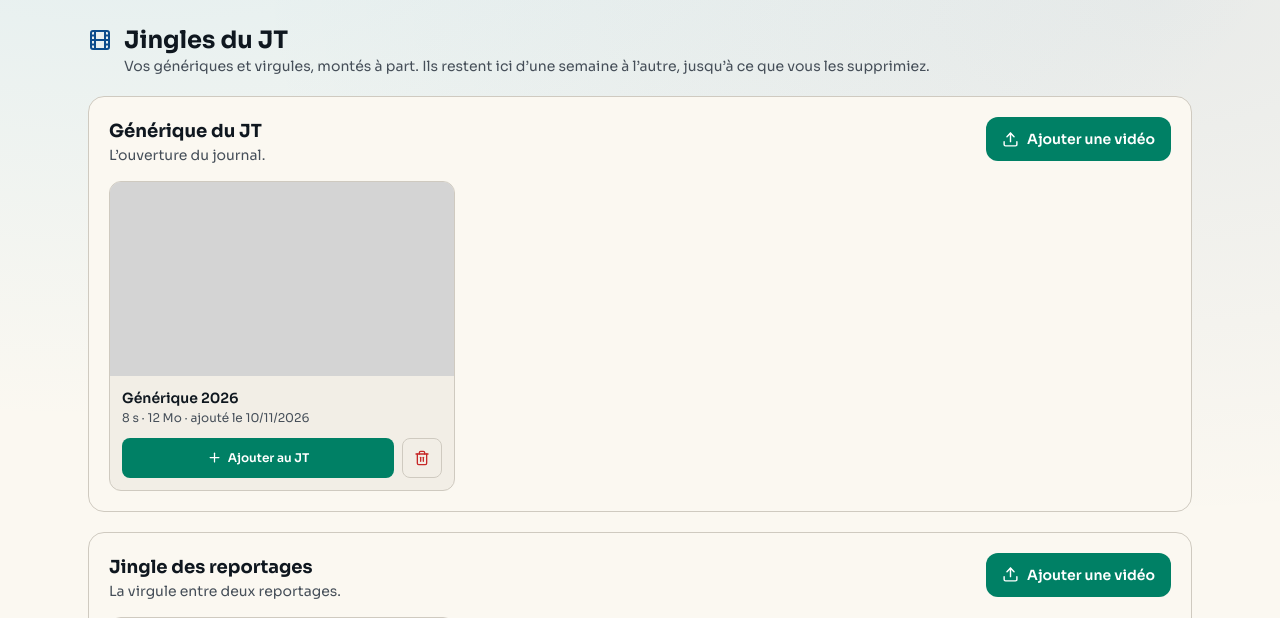
Test case: l’onglet des jingles › ne supprime qu’après confirmation
Later steps or results of the test are not shown.
Click the button named "Supprimer Générique 2026". click: {"x": 422, "y": 458}
box: [402,438,442,478]
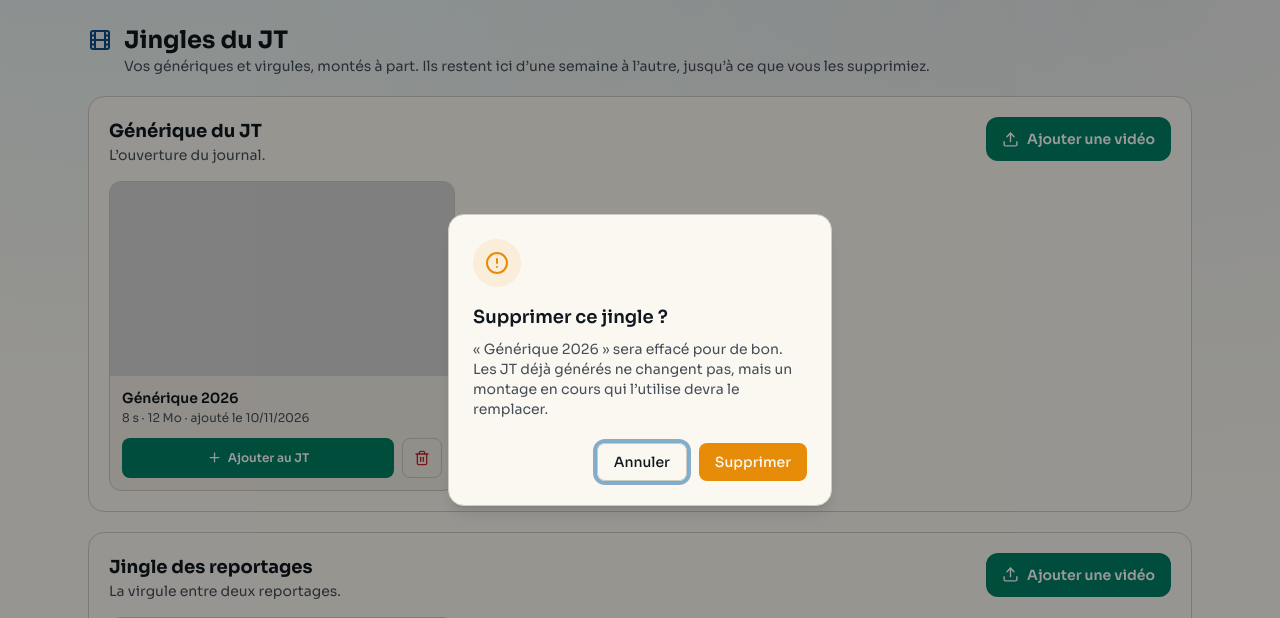
Now the heading "Supprimer ce jingle ?" is shown, box [473,306,668,328]
